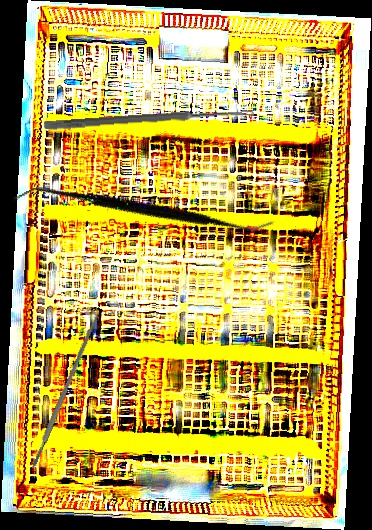Scalpel Handle: (29, 314, 100, 469)
Spatula Surgical: (12, 106, 276, 315)
Surgical Spoon: (43, 106, 256, 132)
